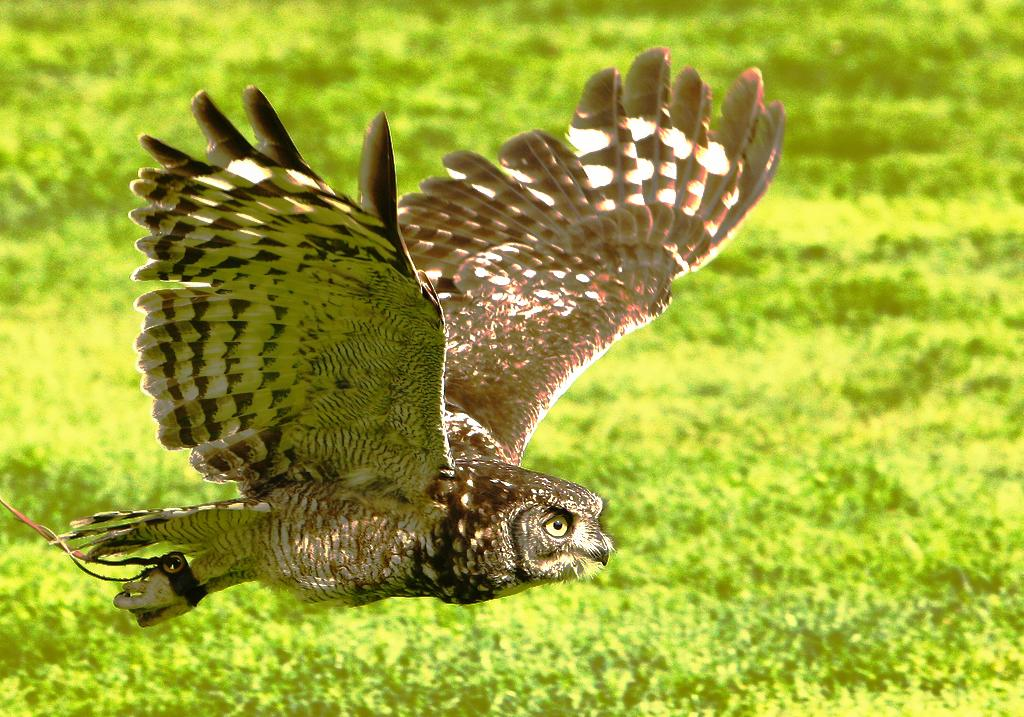Owl: (50, 48, 786, 627)
